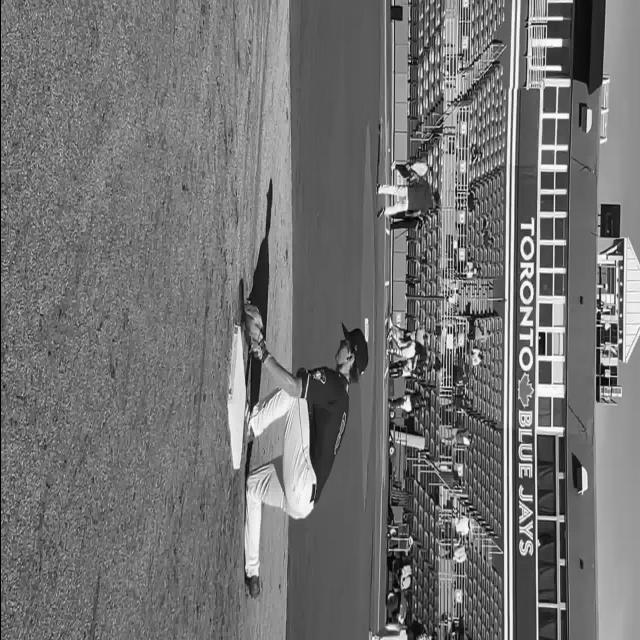base: (226, 322, 244, 473)
baseball_glove: (242, 300, 268, 362)
shoe: (242, 399, 254, 443), (244, 574, 260, 598), (376, 206, 384, 218), (386, 328, 392, 340), (390, 160, 396, 170), (375, 182, 379, 194), (368, 629, 372, 639), (385, 348, 389, 356)
